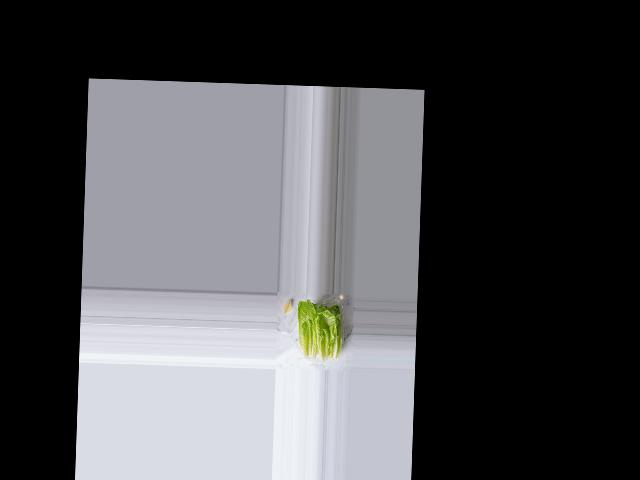lettuce: (293, 298, 345, 361)
